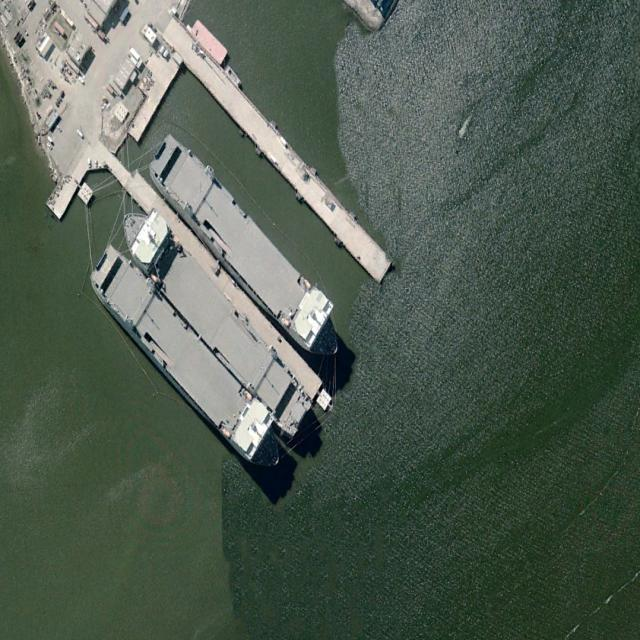Cargo: (141, 124, 353, 376), (81, 237, 292, 487), (111, 190, 319, 440)
